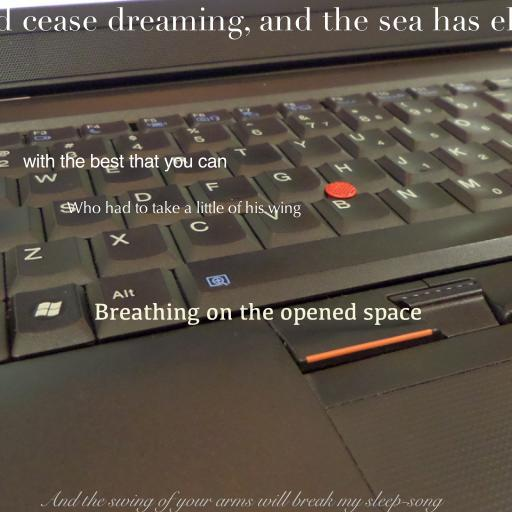Big Caslon: (23, 154, 227, 172)
Didot: (0, 7, 512, 40)
Kefa: (94, 302, 422, 325)
Optima: (67, 200, 301, 218)
Snell Roundhand: (38, 490, 442, 512)
